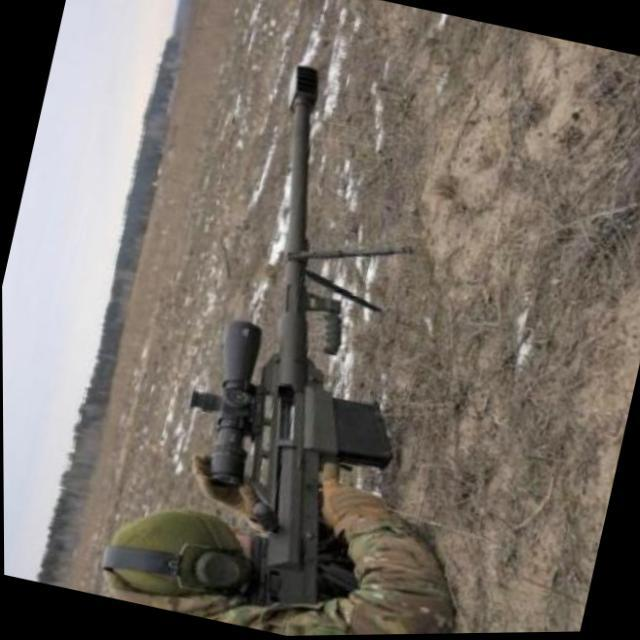weapon: (152, 52, 478, 630)
